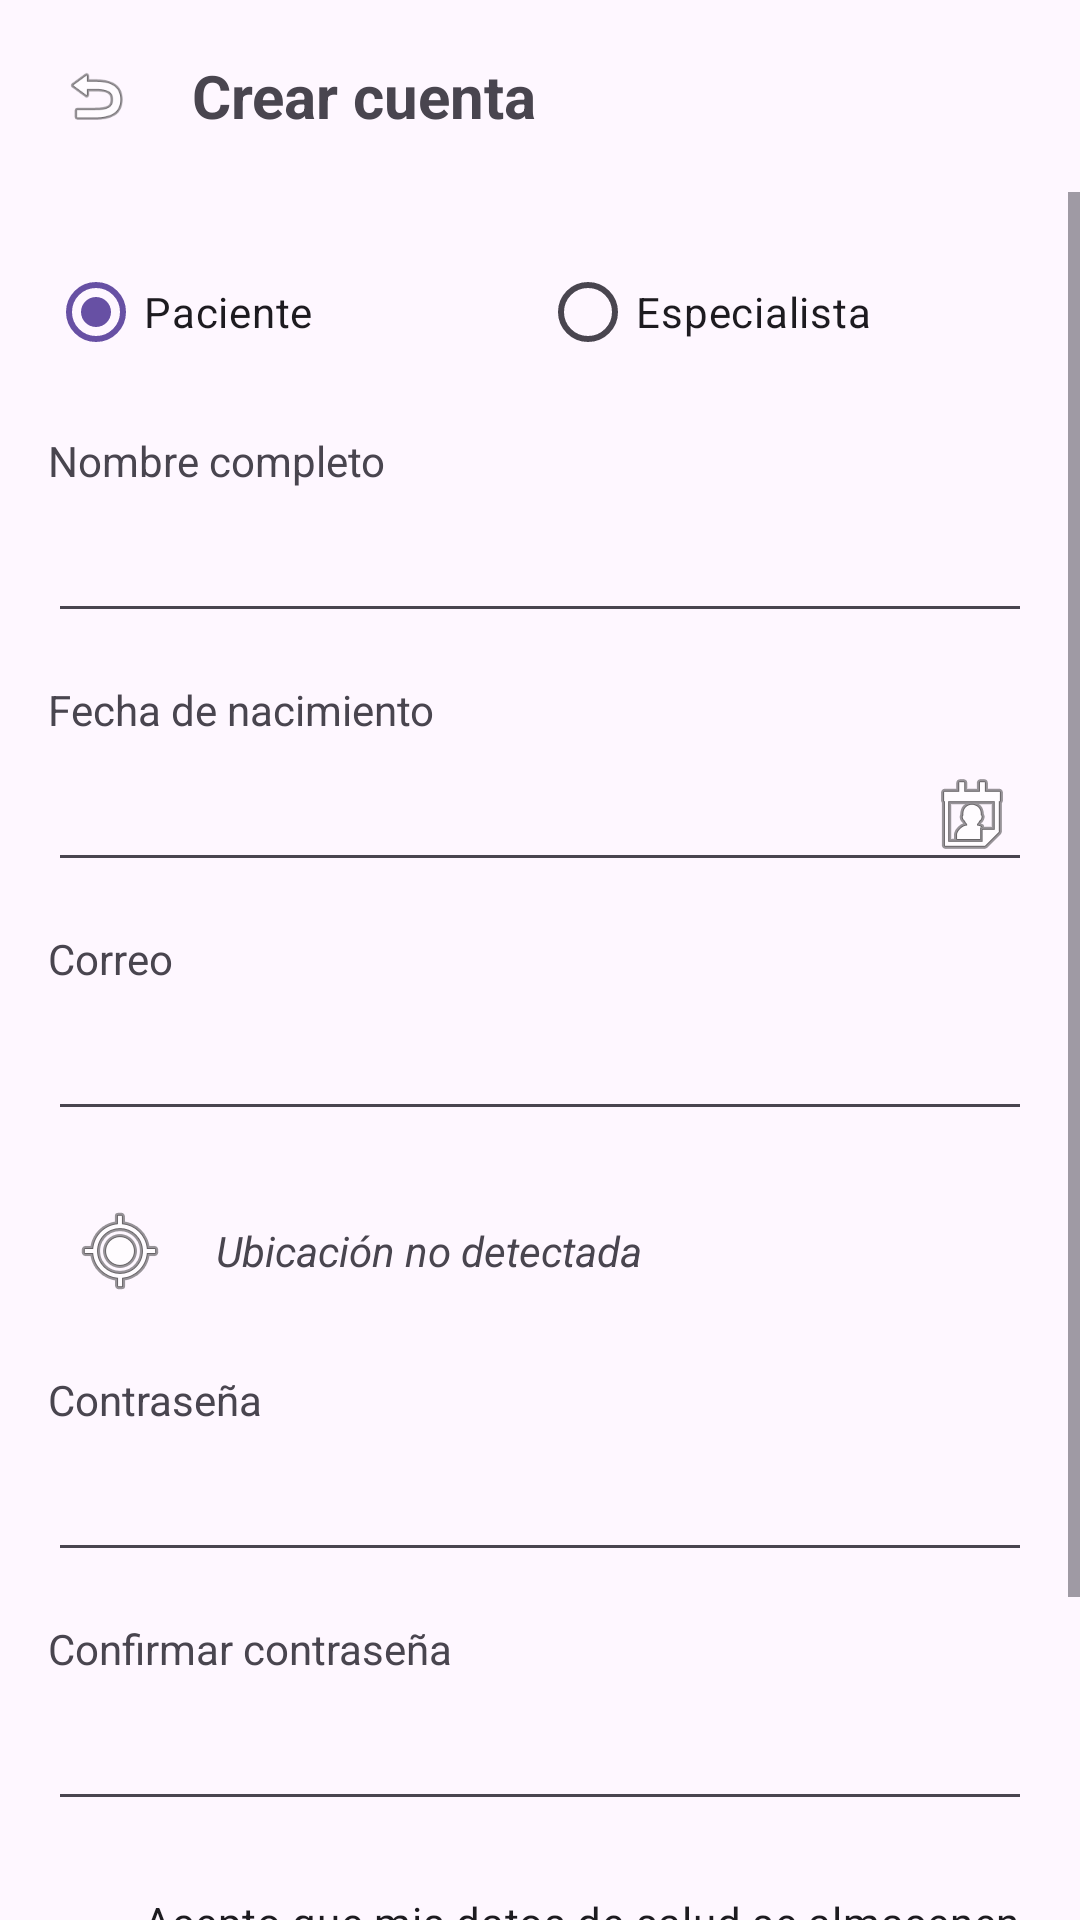

Point at icon controls on the screen. Image size 1080px x 1920px, points as point (x, y).
mylocation: point (120, 1251)
revert: point (97, 96)
